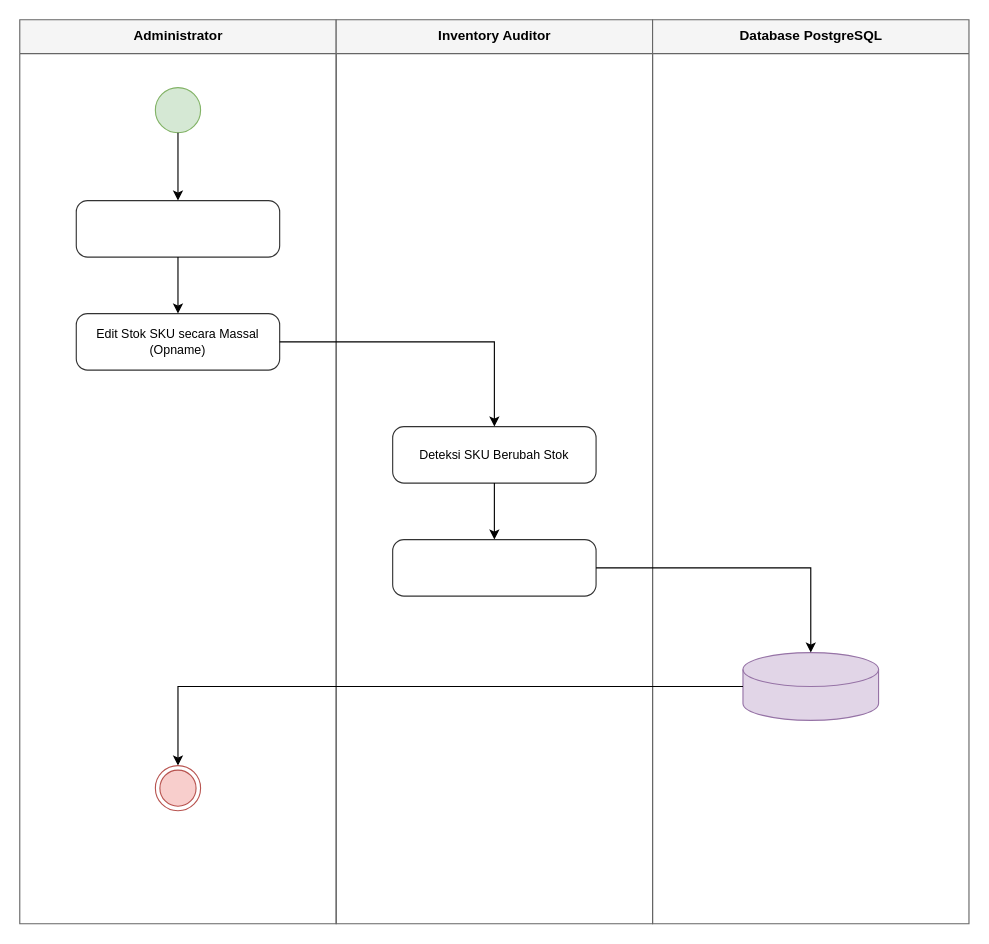
Image size: 989x944. Some labels were removed from this diagram. The centre of each missing label's shape, as x and y in pixels:
"Cari Produk Sepatu" goes at point 177,228.
"Prisma $transaction: Update SKU, Product & Insert StockLogs" goes at point 810,685.
"Set Log Type = ADJUSTMENT" goes at point 494,567.
